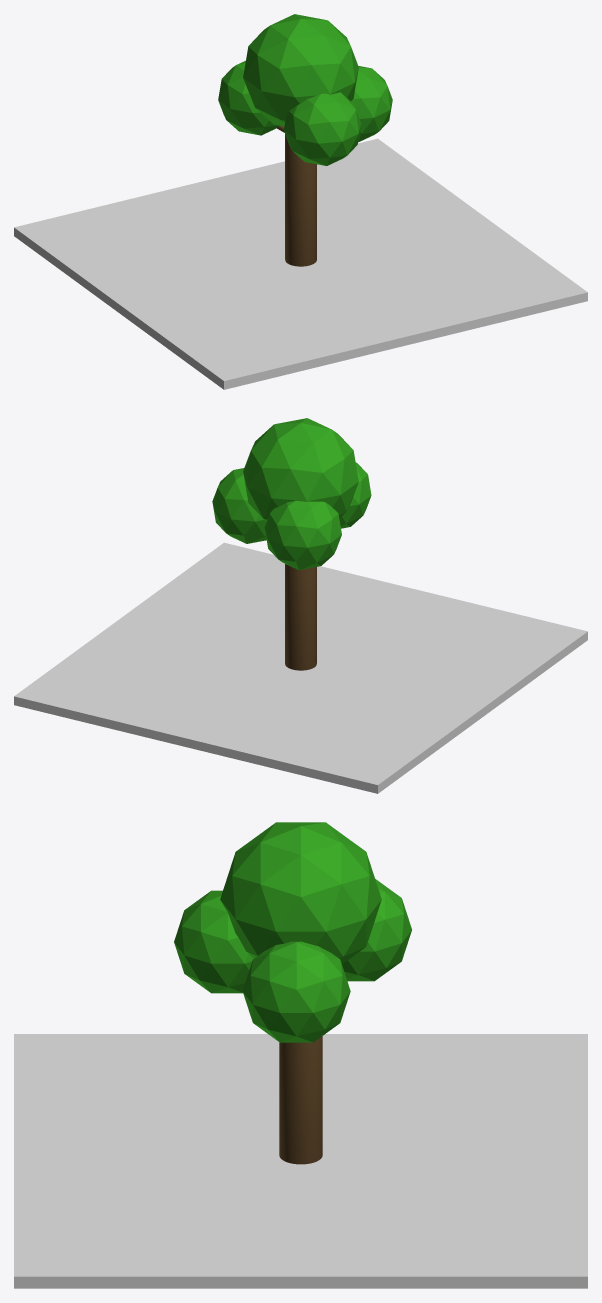
The model's file is Ağaç 6.fbx.
3 renders of one model, top to bottom at view 1: azimuth 30°, elevation 25°; view 2: azimuth 150°, elevation 25°; view 3: azimuth 270°, elevation 25°, orthographic. The views are drawn at different scales.
Parts seen in each view (by area): view 1: Cube, YAPRAK, YAPRAK.001, GÖVDE, YAPRAK.003, YAPRAK.002; view 2: Cube, YAPRAK, YAPRAK.003, GÖVDE, YAPRAK.002, YAPRAK.001; view 3: Cube, YAPRAK, YAPRAK.002, YAPRAK.001, GÖVDE, YAPRAK.003.
Part boxes in pixels (<box>): Cube: <box>14,138,587,389</box>; YAPRAK: <box>243,14,358,126</box>; YAPRAK.001: <box>284,92,361,165</box>; GÖVDE: <box>285,134,316,266</box>; YAPRAK.003: <box>218,60,279,135</box>; YAPRAK.002: <box>351,66,392,142</box>; Cube: <box>14,542,587,793</box>; YAPRAK: <box>243,418,358,520</box>; YAPRAK.003: <box>264,500,341,570</box>; GÖVDE: <box>285,564,316,670</box>; YAPRAK.002: <box>212,468,266,543</box>; YAPRAK.001: <box>339,462,371,528</box>; Cube: <box>14,1034,587,1288</box>; YAPRAK: <box>220,822,381,963</box>; YAPRAK.002: <box>242,941,350,1042</box>; YAPRAK.001: <box>174,890,253,993</box>; GÖVDE: <box>279,1036,322,1164</box>; YAPRAK.003: <box>342,879,411,981</box>.
Size of the model in its own units: 710 by 466 by 710.
